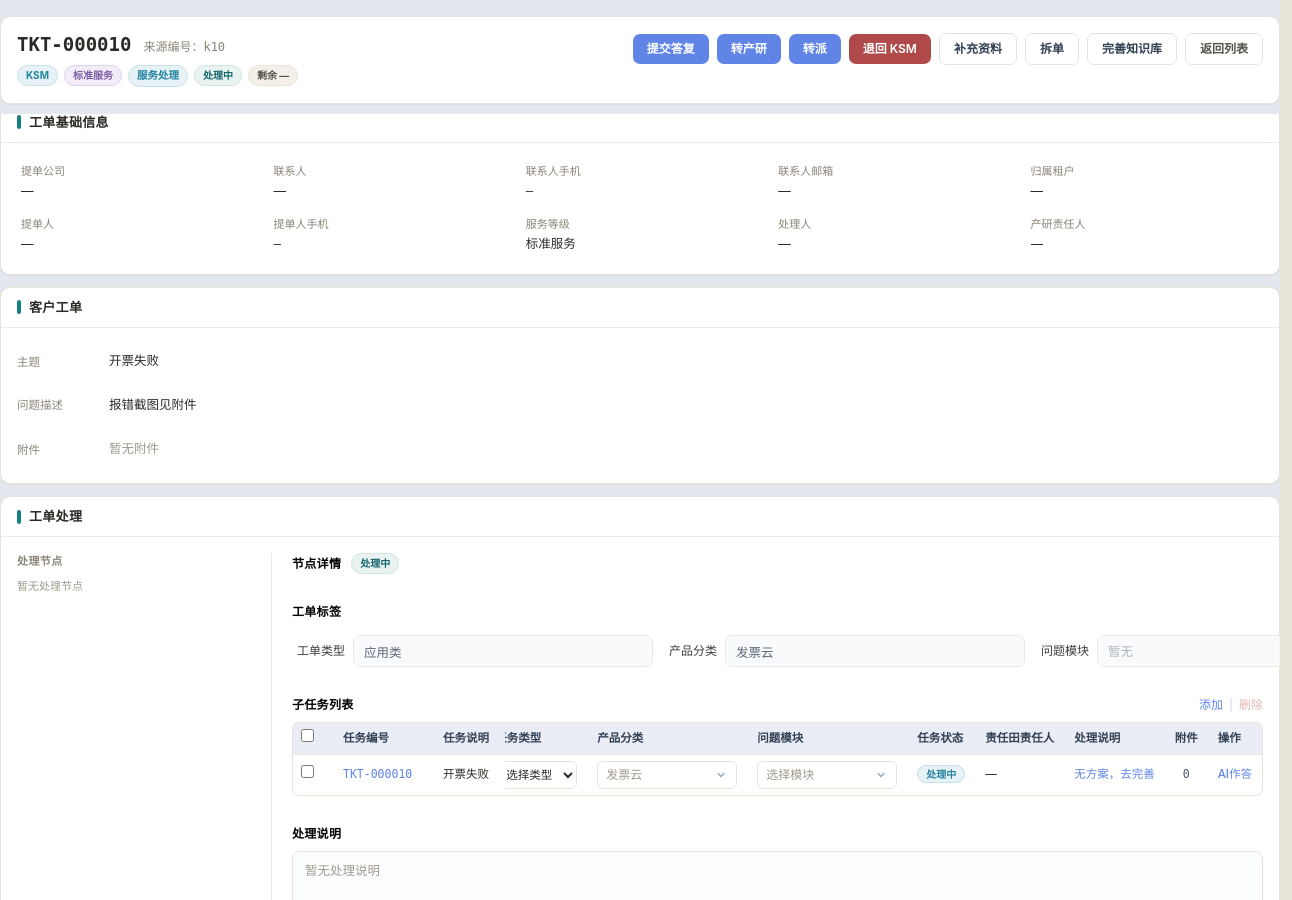
TicketDetailPage 出站回写失败横幅 › 子任务操作列已移除修改说明按钮；缺少字段时点击确认在页面顶部提示补充缺失字段，补齐后确认按钮置灰且状态变为处理中
Click the button "AI作答" at (1235, 775), box [1218, 766, 1252, 783]
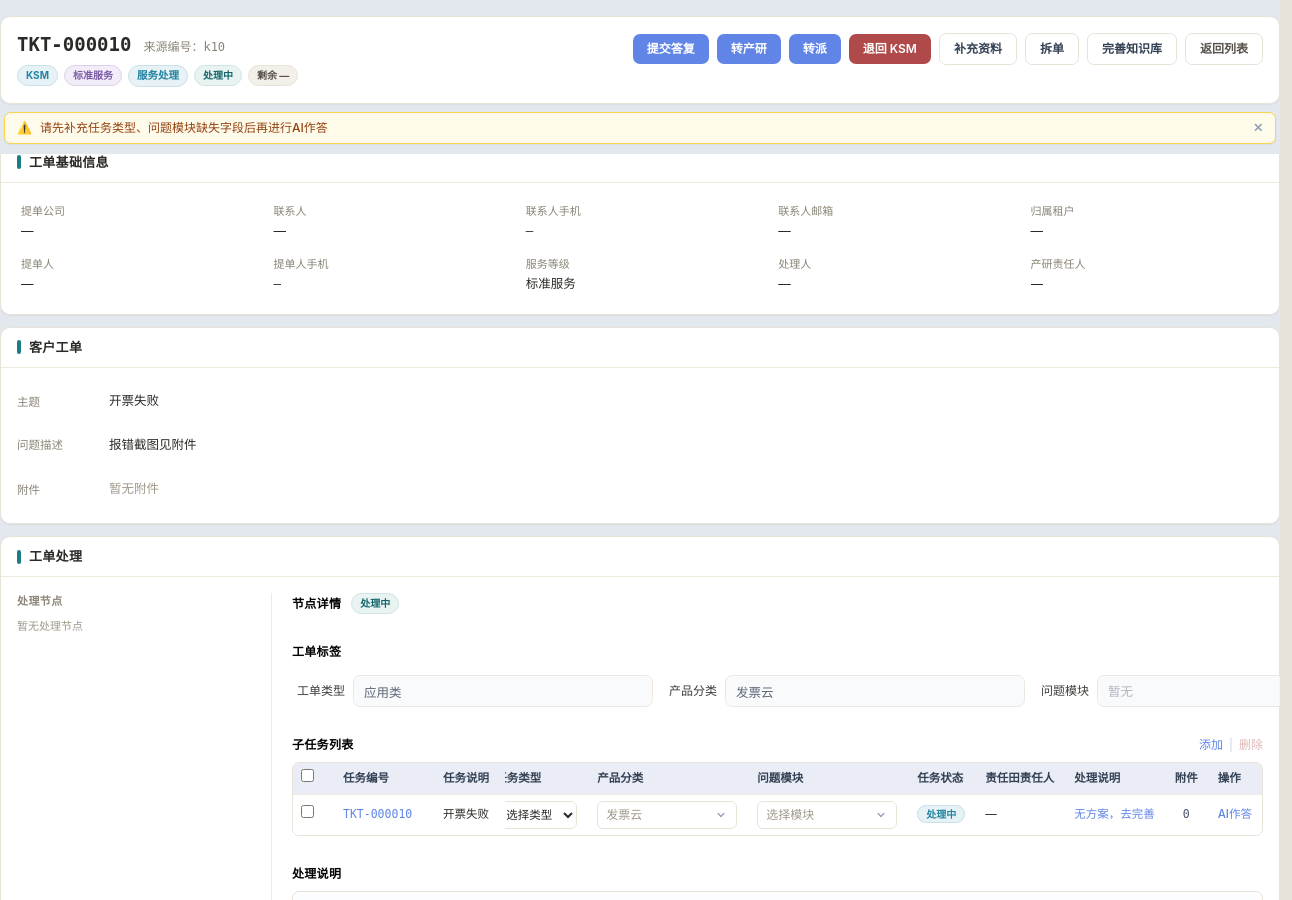
Note: 选择任务类型、产品分类、问题模块
Select "应用类" in the dropdown showing "选择类型" at (536, 815), box [495, 801, 577, 829]
Click the button with aria-label "子任务产品分类" at (667, 815), box [597, 801, 737, 829]
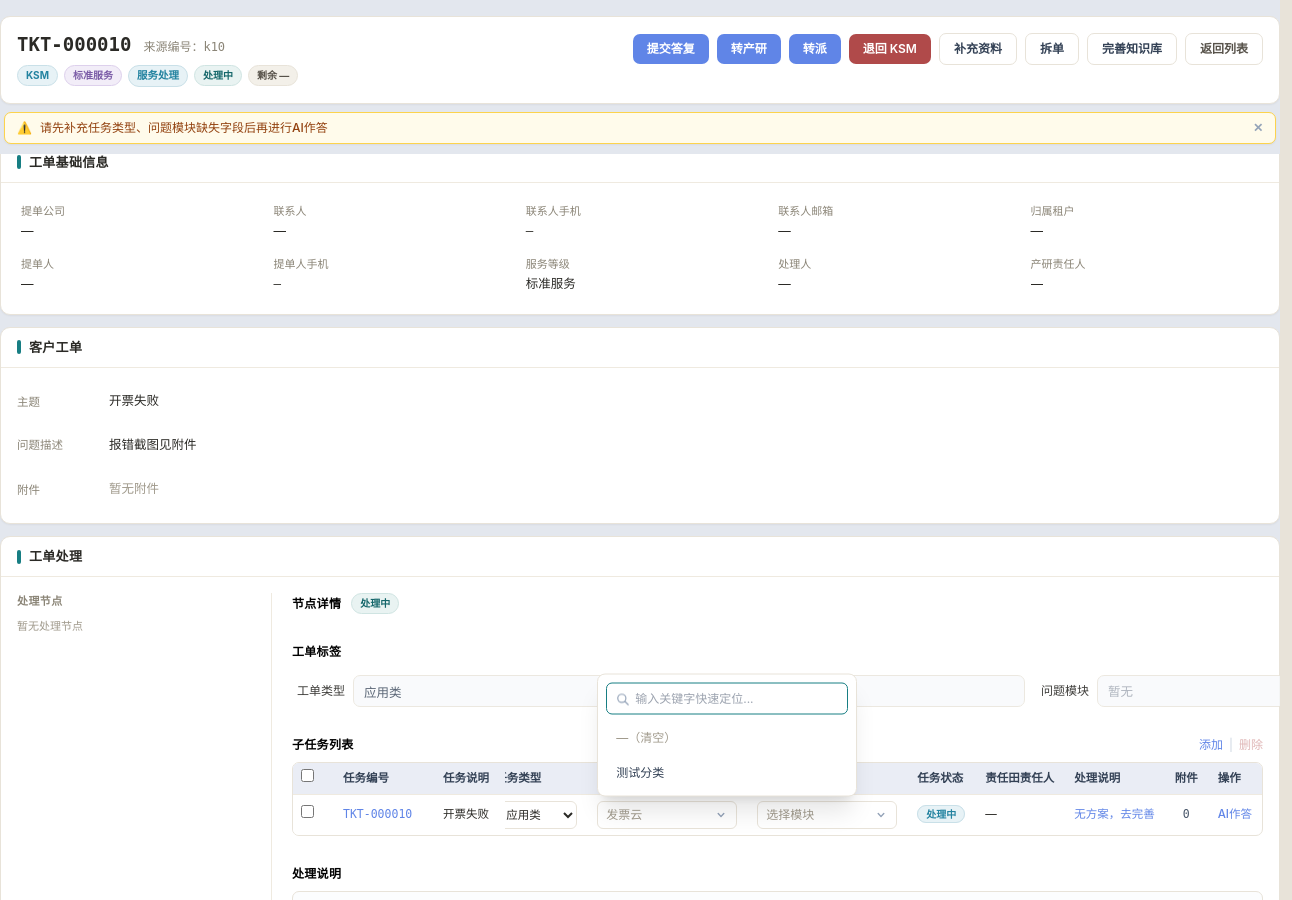
Click the button "测试分类" at (725, 772), box [606, 756, 844, 788]
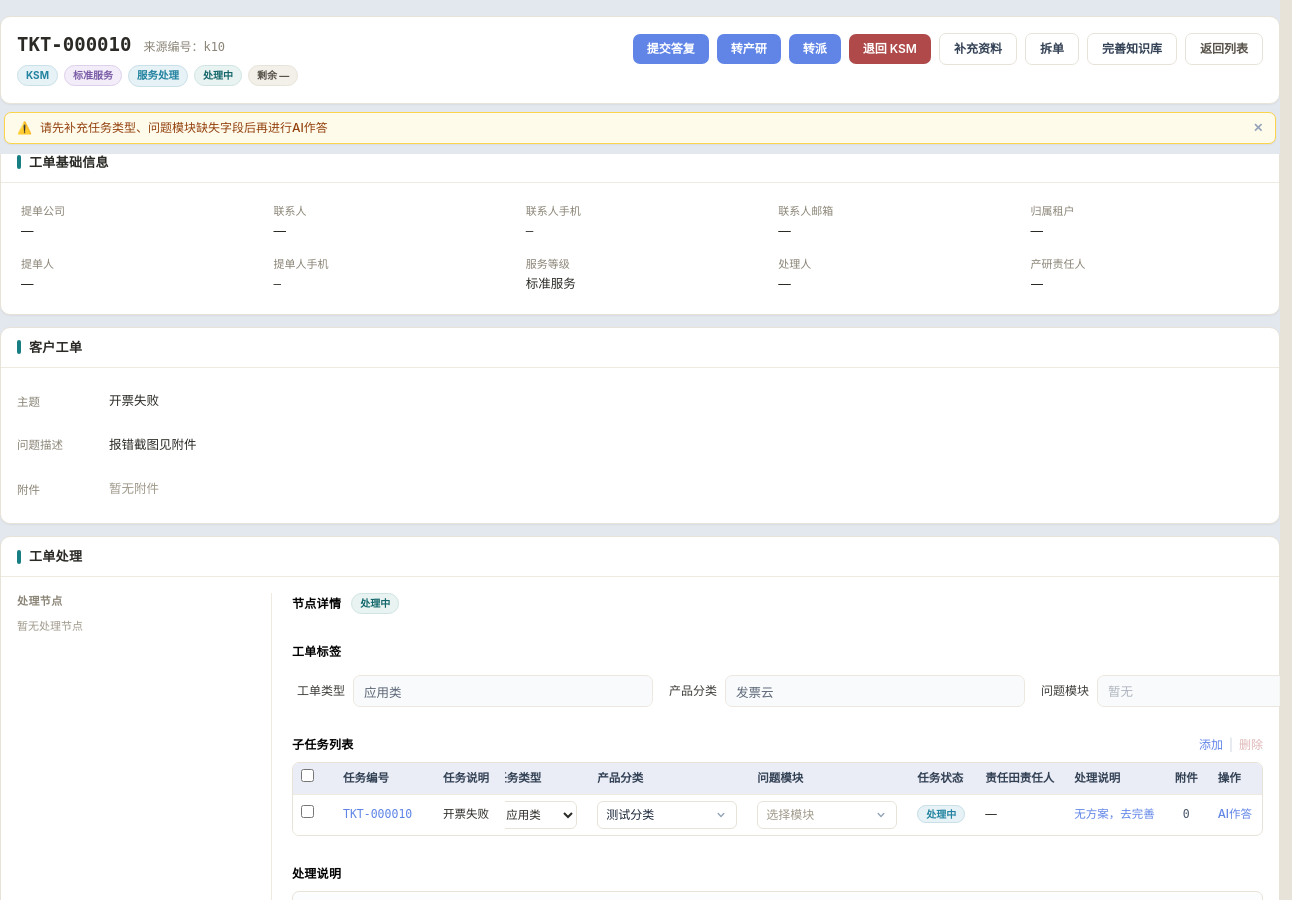
Click the button with aria-label "子任务问题模块" at (827, 815), box [757, 801, 897, 829]
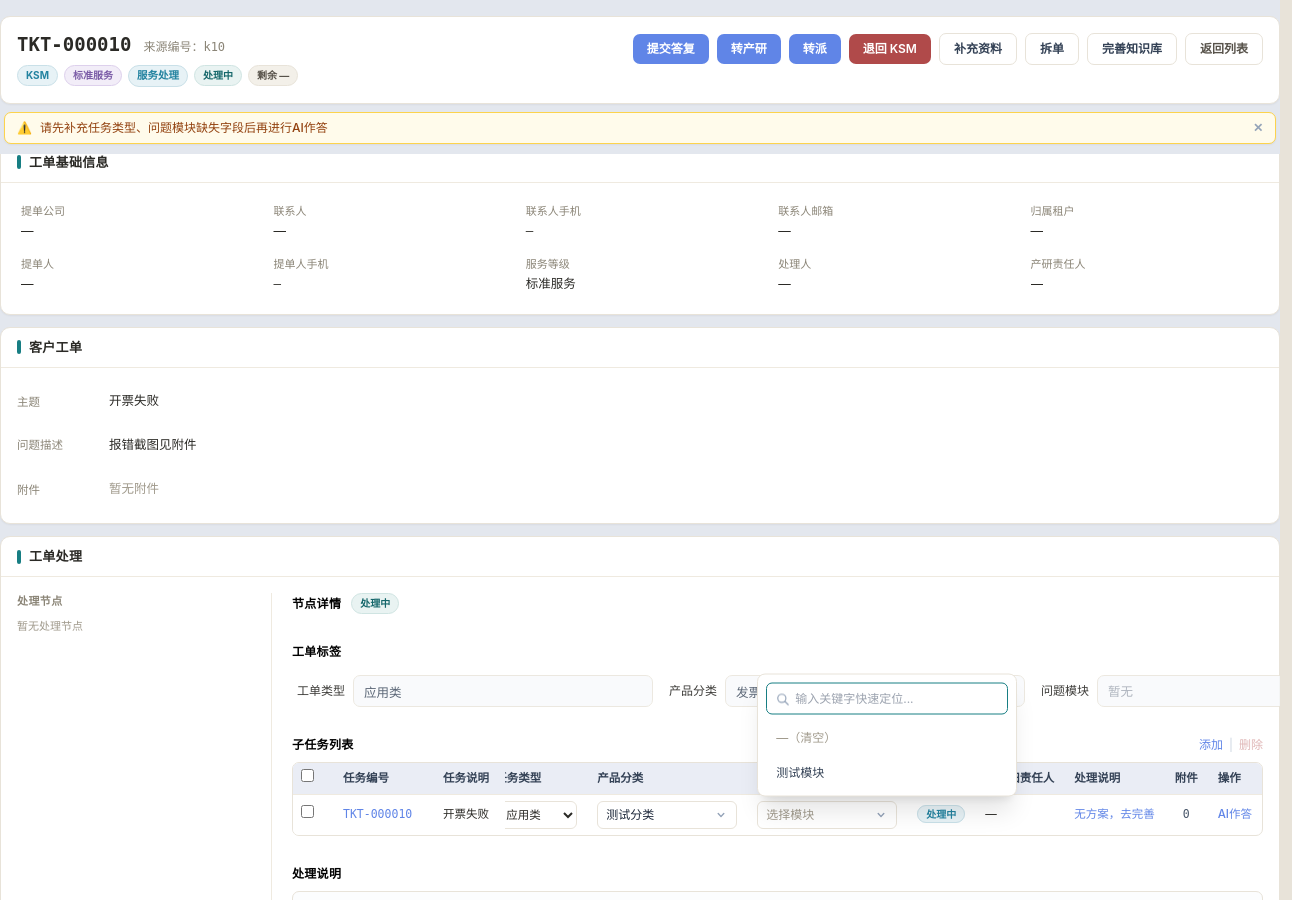
Click the button "测试模块" at (885, 772), box [766, 756, 1004, 788]
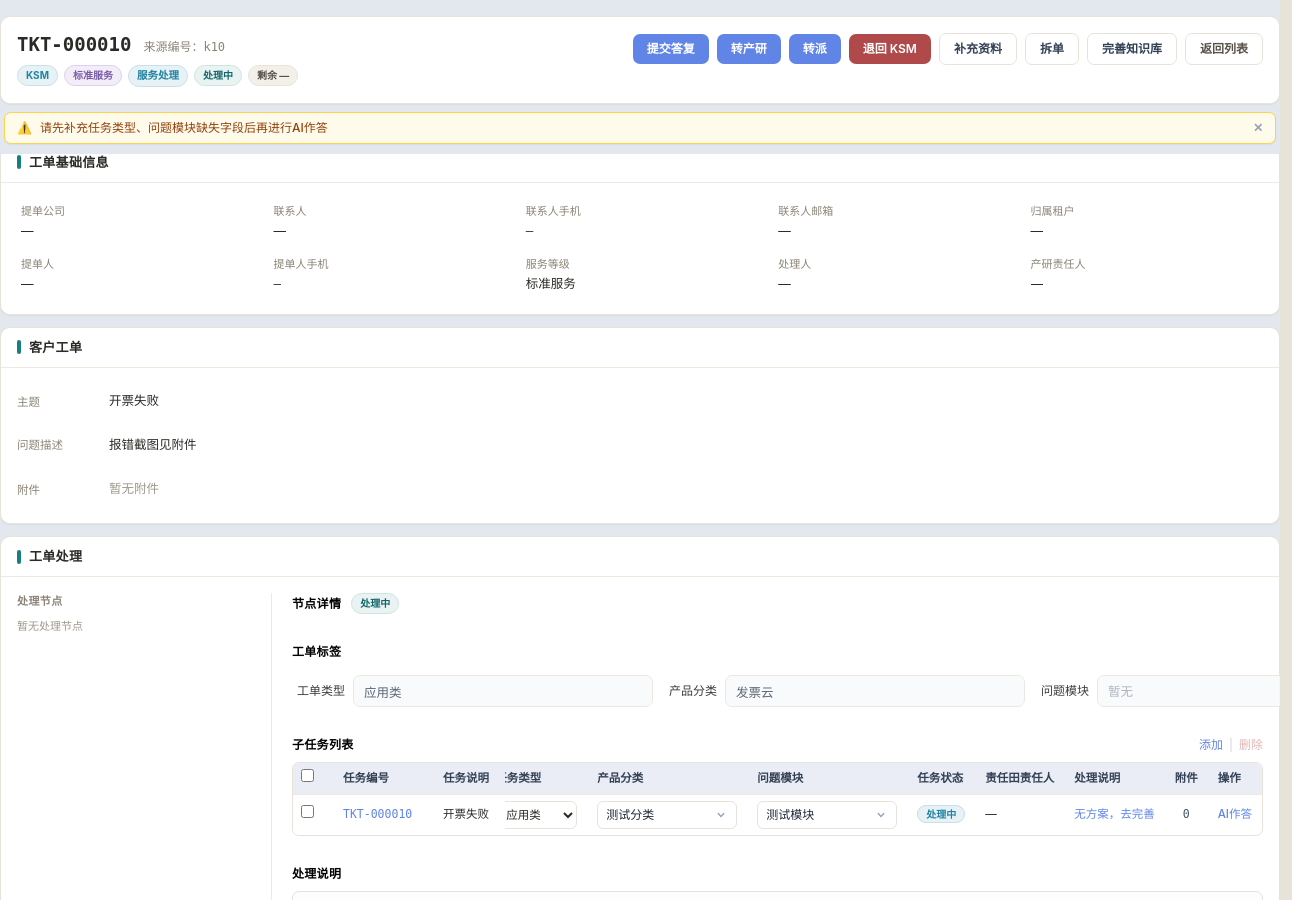
Note: 再次点击 AI作答
Click the button "AI作答" at (1235, 815), box [1218, 806, 1252, 823]
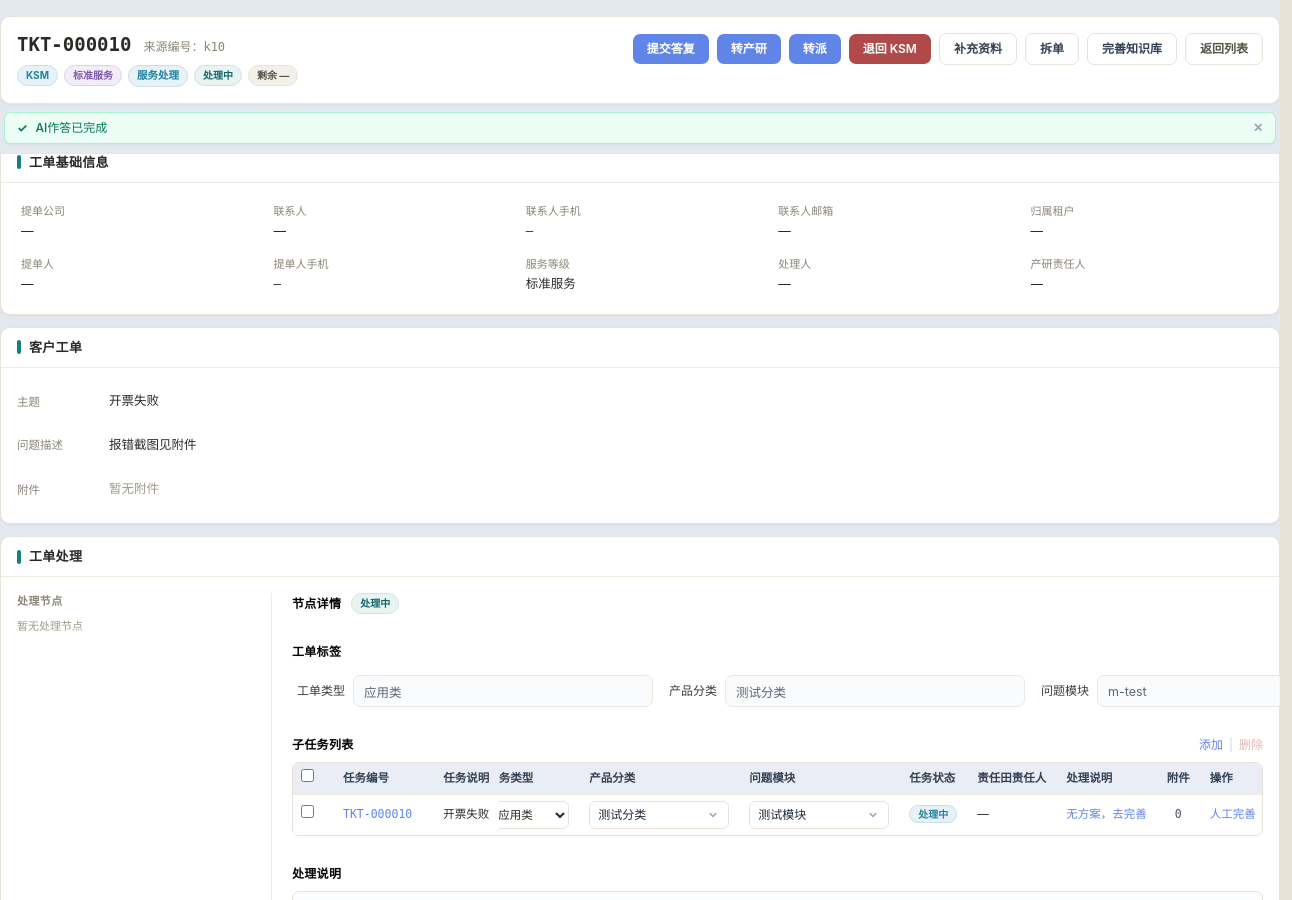
Expected: the cell "处理中" is shown, [899, 794, 967, 835]
Now the button "人工完善" is shown, box [1210, 806, 1256, 823]
